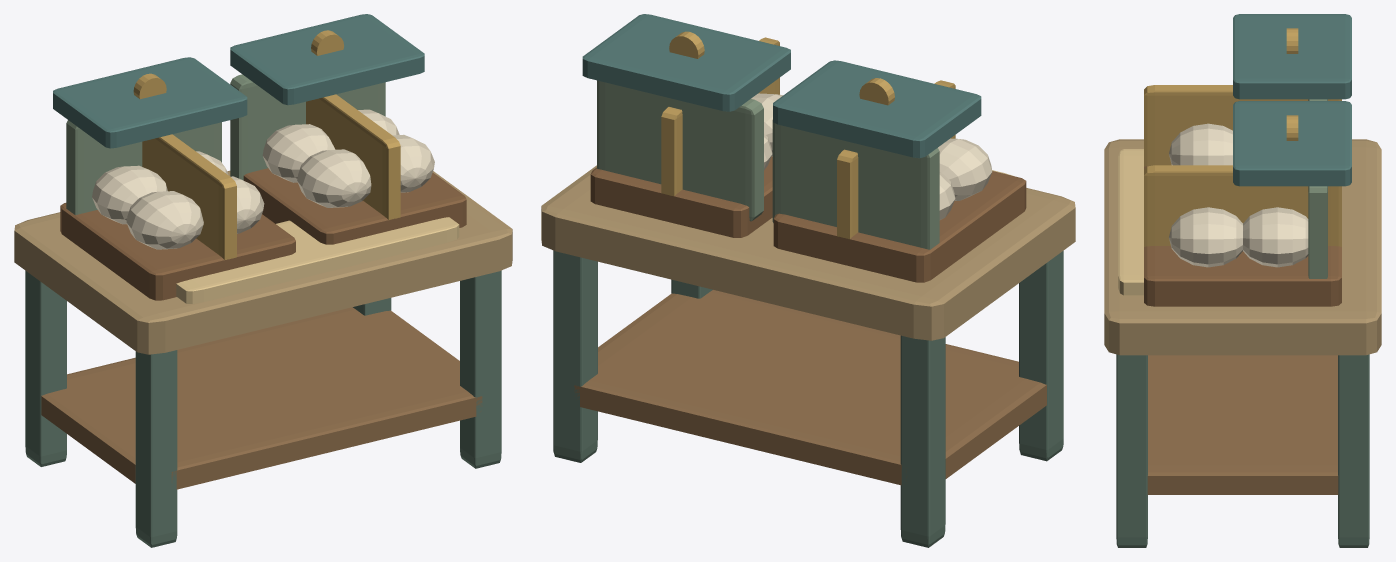
Rendered from clay.glb.
The picture shows the model from 3 angles, left to right: view 1: azimuth 30°, elevation 25°; view 2: azimuth 150°, elevation 25°; view 3: azimuth 270°, elevation 25°; orthographic projection. The views are drawn at different scales.
Parts seen in each view (by area): view 1: clay-table-shelf-005, clay-table-top-000, clay-clay-shelf-023, clay-clay-shelf-021, clay-clay-board-006, clay-table-leg-002, clay-clay-tray-020, clay-clay-board-011, clay-table-leg-004, clay-table-leg-001, clay-clay-rail-017, clay-clay-rail-019 (+10 smaller); view 2: clay-table-shelf-005, clay-table-top-000, clay-clay-bin-018, clay-clay-bin-016, clay-clay-shelf-023, clay-clay-shelf-021, clay-clay-board-006, clay-table-leg-001, clay-table-leg-003, clay-table-leg-002, clay-clay-board-011, clay-clay-ball-009 (+4 smaller); view 3: clay-table-shelf-005, clay-table-top-000, clay-clay-shelf-021, clay-clay-shelf-023, clay-clay-board-011, clay-clay-rail-019, clay-table-leg-003, clay-table-leg-004, clay-clay-rail-017, clay-clay-tray-020, clay-clay-ball-015, clay-clay-ball-013 (+2 smaller).
Part boxes in pixels (<box>): clay-table-shelf-005: <box>41,307,482,489</box>; clay-table-top-000: <box>14,170,512,354</box>; clay-clay-shelf-023: <box>230,14,424,105</box>; clay-clay-shelf-021: <box>53,57,247,148</box>; clay-clay-board-006: <box>60,203,295,300</box>; clay-table-leg-002: <box>135,350,177,547</box>; clay-clay-tray-020: <box>176,217,459,303</box>; clay-clay-board-011: <box>243,168,466,244</box>; clay-table-leg-004: <box>460,270,501,468</box>; clay-table-leg-001: <box>25,270,66,466</box>; clay-clay-rail-017: <box>142,134,236,259</box>; clay-clay-rail-019: <box>306,94,400,219</box>; clay-table-shelf-005: <box>574,290,1046,485</box>; clay-table-top-000: <box>541,165,1075,340</box>; clay-clay-bin-018: <box>597,80,763,221</box>; clay-clay-bin-016: <box>772,120,939,249</box>; clay-clay-shelf-023: <box>582,14,790,111</box>; clay-clay-shelf-021: <box>773,60,981,158</box>; clay-clay-board-006: <box>773,171,1026,282</box>; clay-table-leg-001: <box>900,335,945,547</box>; clay-table-leg-003: <box>553,250,597,462</box>; clay-table-leg-002: <box>1019,251,1063,461</box>; clay-clay-board-011: <box>590,156,772,237</box>; clay-clay-ball-009: <box>938,138,992,200</box>; clay-table-shelf-005: <box>1147,355,1338,494</box>; clay-table-top-000: <box>1104,139,1381,355</box>; clay-clay-shelf-021: <box>1233,14,1351,99</box>; clay-clay-shelf-023: <box>1233,101,1351,186</box>; clay-clay-board-011: <box>1144,246,1341,306</box>; clay-clay-rail-019: <box>1144,165,1341,246</box>; clay-table-leg-003: <box>1338,354,1369,547</box>; clay-table-leg-004: <box>1116,354,1147,547</box>; clay-clay-rail-017: <box>1144,85,1341,166</box>; clay-clay-tray-020: <box>1118,149,1143,295</box>; clay-clay-ball-015: <box>1168,207,1242,267</box>; clay-clay-ball-013: <box>1243,207,1308,267</box>.
Bounding box in the file's own units: 2.2 × 2.17 × 1.4.
